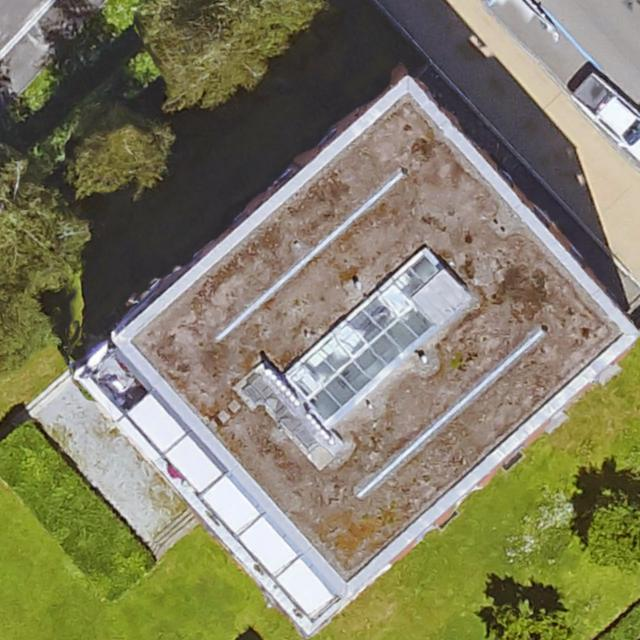tree: (124, 0, 326, 111), (0, 152, 90, 298), (58, 101, 173, 201), (585, 495, 640, 571), (484, 599, 573, 640)
